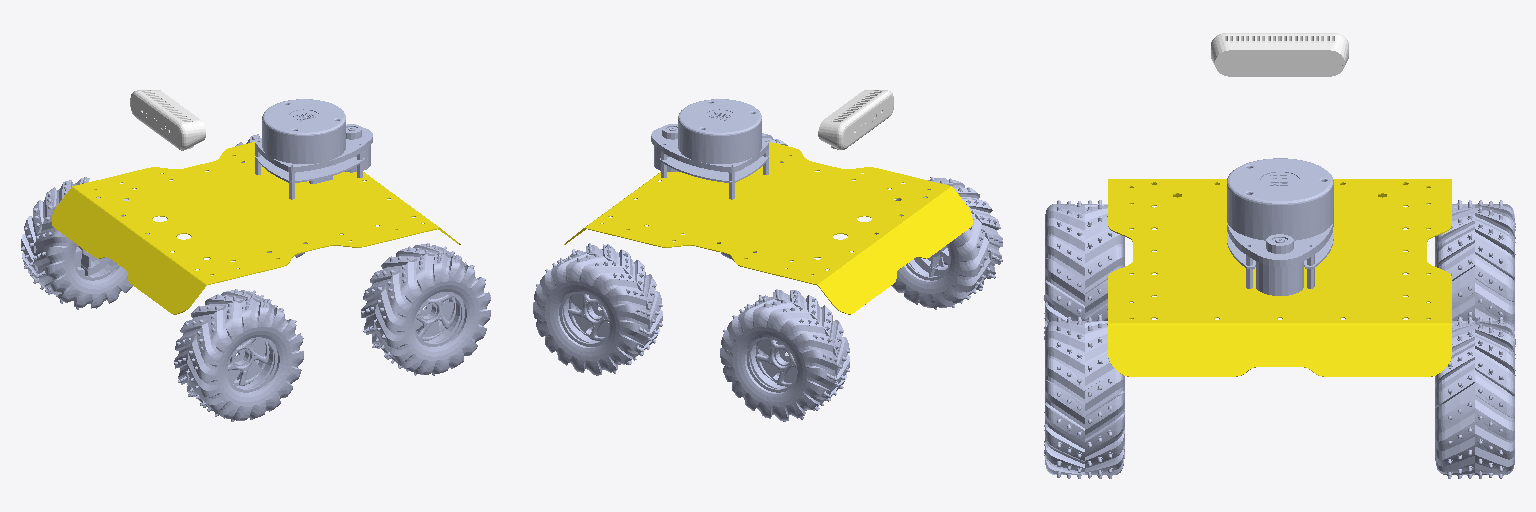
The robot description file, URDF, robot "four_w_amr":
<?xml version="1.0" encoding="utf-8"?>
<!-- This URDF was automatically created by SolidWorks to URDF Exporter! Originally created by [author] ([email redacted]) 
     Commit Version: 1.6.0-1-g15f4949  Build Version: 1.6.7594.29634
     For more information, please see http://wiki.ros.org/sw_urdf_exporter -->
<robot
  name="four_w_amr">
  <link
    name="base_link">
    <inertial>
      <origin
        xyz="-0.0015714 -3.8096E-05 0.0092412"
        rpy="0 0 0" />
      <mass
        value="0.99262" />
      <inertia
        ixx="0.0049043"
        ixy="-7.0089E-07"
        ixz="-1.9202E-06"
        iyy="0.0069472"
        iyz="1.296E-07"
        izz="0.010883" />
    </inertial>
    <visual>
      <origin
        xyz="0 0 0"
        rpy="0 0 0" />
      <geometry>
        <mesh
          filename="package://four_w_amr/meshes/base_link.STL" />
      </geometry>
      <material
        name="">
        <color
          rgba="1 0.94902 0.89804 1" />
      </material>
    </visual>
    <collision>
      <origin
        xyz="0 0 0"
        rpy="0 0 0" />
      <geometry>
        <mesh
          filename="package://four_w_amr/meshes/base_link.STL" />
      </geometry>
    </collision>
  </link>
  <link
    name="front_right_link">
    <inertial>
      <origin
        xyz="7.98479129751617E-06 1.10220750583739E-05 0.00334456132385286"
        rpy="0 0 0" />
      <mass
        value="0.136050477770583" />
      <inertia
        ixx="0.000149637372346913"
        ixy="-1.49723611912467E-08"
        ixz="-8.99691309444113E-10"
        iyy="0.000149629538452258"
        iyz="2.49639173636771E-10"
        izz="0.000237422132450635" />
    </inertial>
    <visual>
      <origin
        xyz="0 0 0"
        rpy="1.57 0 0" />
      <geometry>
        <mesh
          filename="package://four_w_amr/meshes/front_right_link.STL" />
      </geometry>
      <material
        name="">
        <color
          rgba="0.792156862745098 0.819607843137255 0.933333333333333 1" />
      </material>
    </visual>
    <collision>
      <origin
        xyz="0 0 0"
        rpy="1.57 0 0" />
      <geometry>
        <mesh
          filename="package://four_w_amr/meshes/front_right_link.STL" />
      </geometry>
    </collision>
  </link>
  <joint
    name="front_right_joint"
    type="continuous">
    <origin
      xyz="0.09 -0.12514 -0.0092692"
      rpy="0 0 0" />
    <parent
      link="base_link" />
    <child
      link="front_right_link" />
    <axis
      xyz="0 0 1" />
    <limit
      lower="0"
      upper="0"
      effort="0"
      velocity="0" />
  </joint>
  <link
    name="front_left_link">
    <inertial>
      <origin
        xyz="1.1381894112733E-05 7.48568934245096E-06 -0.00334456087259355"
        rpy="0 0 0" />
      <mass
        value="0.13605048957278" />
      <inertia
        ixx="0.000149628181222013"
        ixy="-1.45417054623739E-08"
        ixz="-2.07034268982266E-10"
        iyy="0.000149638739293044"
        iyz="9.04501670155912E-10"
        izz="0.000237422140494481" />
    </inertial>
    <visual>
      <origin
        xyz="0 0 0"
        rpy="1.57 0 0" />
      <geometry>
        <mesh
          filename="package://four_w_amr/meshes/front_left_link.STL" />
      </geometry>
      <material
        name="">
        <color
          rgba="0.792156862745098 0.819607843137255 0.933333333333333 1" />
      </material>
    </visual>
    <collision>
      <origin
        xyz="0 0 0"
        rpy="1.57 0 0" />
      <geometry>
        <mesh
          filename="package://four_w_amr/meshes/front_left_link.STL" />
      </geometry>
    </collision>
  </link>
  <joint
    name="front_left_joint"
    type="continuous">
    <origin
      xyz="0.09 0.12514 -0.0092692"
      rpy="0 0 0" />
    <parent
      link="base_link" />
    <child
      link="front_left_link" />
    <axis
      xyz="0 0 -1" />
    <limit
      lower="0"
      upper="0"
      effort="0"
      velocity="0" />
  </joint>
  <link
    name="back_right_link">
    <inertial>
      <origin
        xyz="2.69262244340096E-06 1.34962546564869E-05 0.00334457304464342"
        rpy="0 0 0" />
      <mass
        value="0.136050439819325" />
      <inertia
        ixx="0.000149647306834592"
        ixy="-6.54136891411713E-09"
        ixz="-8.64044775880118E-10"
        iyy="0.000149619394821641"
        iyz="-1.01021792230475E-10"
        izz="0.000237421935786749" />
    </inertial>
    <visual>
      <origin
        xyz="0 0 0"
        rpy="1.57 0 0" />
      <geometry>
        <mesh
          filename="package://four_w_amr/meshes/back_right_link.STL" />
      </geometry>
      <material
        name="">
        <color
          rgba="0.792156862745098 0.819607843137255 0.933333333333333 1" />
      </material>
    </visual>
    <collision>
      <origin
        xyz="0 0 0"
        rpy="1.57 0 0" />
      <geometry>
        <mesh
          filename="package://four_w_amr/meshes/back_right_link.STL" />
      </geometry>
    </collision>
  </link>
  <joint
    name="back_right_joint"
    type="continuous">
    <origin
      xyz="-0.09 -0.12514 -0.0092692"
      rpy="0 0 0" />
    <parent
      link="base_link" />
    <child
      link="back_right_link" />
    <axis
      xyz="0 0 1" />
    <limit
      lower="0"
      upper="0"
      effort="0"
      velocity="0" />
  </joint>
  <link
    name="back_left_link">
    <inertial>
      <origin
        xyz="1.13824598607648E-05 7.48507145224148E-06 -0.00334455998739608"
        rpy="0 0 0" />
      <mass
        value="0.13605047153913" />
      <inertia
        ixx="0.00014962817203766"
        ixy="-1.45514561403012E-08"
        ixz="-2.02508595545601E-10"
        iyy="0.000149638713799597"
        iyz="9.01595965330663E-10"
        izz="0.000237422109521262" />
    </inertial>
    <visual>
      <origin
        xyz="0 0 0"
        rpy="1.57 0 0" />
      <geometry>
        <mesh
          filename="package://four_w_amr/meshes/back_left_link.STL" />
      </geometry>
      <material
        name="">
        <color
          rgba="0.792156862745098 0.819607843137255 0.933333333333333 1" />
      </material>
    </visual>
    <collision>
      <origin
        xyz="0 0 0"
        rpy="1.57 0 0" />
      <geometry>
        <mesh
          filename="package://four_w_amr/meshes/back_left_link.STL" />
      </geometry>
    </collision>
  </link>
  <joint
    name="back_left_joint"
    type="continuous">
    <origin
      xyz="-0.09 0.12514 -0.0092692"
      rpy="0 0 0" />
    <parent
      link="base_link" />
    <child
      link="back_left_link" />
    <axis
      xyz="0 0 -1" />
    <limit
      lower="0"
      upper="0"
      effort="0"
      velocity="0" />
  </joint>
  <link
    name="top_plate_link">
    <inertial>
      <origin
        xyz="0.000420222783781007 -5.64815892474618E-16 0.051060226584283"
        rpy="0 0 0" />
      <mass
        value="0.0466828966882997" />
      <inertia
        ixx="0.000189247485053159"
        ixy="-1.64633361020445E-19"
        ixz="-5.96136350214113E-08"
        iyy="0.000331558823701719"
        iyz="-7.65829186487116E-20"
        izz="0.000516954502516687" />
    </inertial>
    <visual>
      <origin
        xyz="0 0 0"
        rpy="0 0 0" />
      <geometry>
        <mesh
          filename="package://four_w_amr/meshes/top_plate_link.STL" />
      </geometry>
      <material
        name="">
        <color
          rgba="1 0.937254901960784 0.137254901960784 1" />
      </material>
    </visual>
    <collision>
      <origin
        xyz="0 0 0"
        rpy="0 0 0" />
      <geometry>
        <mesh
          filename="package://four_w_amr/meshes/top_plate_link.STL" />
      </geometry>
    </collision>
  </link>
  <joint
    name="top_plate_joint"
    type="fixed">
    <origin
      xyz="0 0 0"
      rpy="0 0 0" />
    <parent
      link="base_link" />
    <child
      link="top_plate_link" />
    <axis
      xyz="0 0 0" />
  </joint>
  <link
    name="lidar_link">
    <inertial>
      <origin
        xyz="0.0519284763054134 9.19718367893261E-05 0.104952293837966"
        rpy="0 0 0" />
      <mass
        value="1.33010751695787" />
      <inertia
        ixx="0.000613770576870692"
        ixy="-8.01970112250431E-07"
        ixz="-0.000158237807214438"
        iyy="0.000959131136457615"
        iyz="3.09368466835681E-06"
        izz="0.00109694905180103" />
    </inertial>
    <visual>
      <origin
        xyz="0.05 0 -0.1"
        rpy="0 0 3.14" />
      <geometry>
        <mesh
          filename="package://four_w_amr/meshes/lidar_link.STL" />
      </geometry>
      <material
        name="">
        <color
          rgba="0.792156862745098 0.819607843137255 0.933333333333333 1" />
      </material>
    </visual>
    <collision>
      <origin
        xyz="0.05 0 -0.1"
        rpy="0 0 3.14" />
      <geometry>
        <mesh
          filename="package://four_w_amr/meshes/lidar_link.STL" />
      </geometry>
    </collision>
  </link>
  <joint
    name="lidar_joint"
    type="fixed">
    <origin
      xyz="0.055 0 0.1"
      rpy="0 0 0" />
    <parent
      link="base_link" />
    <child
      link="lidar_link" />
    <axis
      xyz="0 0 0" />
  </joint>
  <link
    name="realsense_link">
    <inertial>
      <origin
        xyz="0 0 0"
        rpy="0 0 0" />
      <mass
        value="0" />
      <inertia
        ixx="0"
        ixy="0"
        ixz="0"
        iyy="0"
        iyz="0"
        izz="0" />
    </inertial>
    <visual>
      <origin
        xyz="0 0 0"
        rpy="0 0 0" />
      <geometry>
        <mesh
          filename="package://four_w_amr/meshes/realsense_link.STL" />
      </geometry>
      <material
        name="">
        <color
          rgba="1 1 1 1" />
      </material>
    </visual>
    <collision>
      <origin
        xyz="0 0 0"
        rpy="0 0 0" />
      <geometry>
        <mesh
          filename="package://four_w_amr/meshes/realsense_link.STL" />
      </geometry>
    </collision>
  </link>
  <joint
    name="realsense_joint"
    type="fixed">
    <origin
      xyz="0 0 0"
      rpy="0 0 0" />
    <parent
      link="base_link" />
    <child
      link="realsense_link" />
    <axis
      xyz="0 0 0" />
  </joint>
</robot>

--- What the picture shows (computed from the rendered views, not written in the file) ---
3 views of the same robot in one strip: view 1: azimuth 30°, elevation 25°; view 2: azimuth 150°, elevation 25°; view 3: azimuth 270°, elevation 25° (orthographic).
Model four_w_amr with 8 links and 7 joints (4 continuous, 3 fixed), rooted at base_link, posed every joint at zero.
Links seen in each view (by area): view 1: top_plate_link, back_right_link, front_right_link, lidar_link, back_left_link, realsense_link; view 2: top_plate_link, back_left_link, front_left_link, lidar_link, back_right_link, realsense_link; view 3: top_plate_link, lidar_link, front_left_link, front_right_link, back_right_link, back_left_link, realsense_link.
Boxes of the visible links, bbox=[...] form: top_plate_link: bbox=[52, 142, 460, 314]; back_right_link: bbox=[174, 289, 303, 421]; front_right_link: bbox=[361, 243, 490, 375]; lidar_link: bbox=[255, 99, 372, 199]; back_left_link: bbox=[21, 177, 148, 309]; realsense_link: bbox=[130, 90, 205, 150]; top_plate_link: bbox=[564, 142, 972, 314]; back_left_link: bbox=[720, 289, 849, 421]; front_left_link: bbox=[533, 243, 662, 375]; lidar_link: bbox=[651, 99, 768, 199]; back_right_link: bbox=[875, 177, 1002, 309]; realsense_link: bbox=[818, 90, 893, 149]; top_plate_link: bbox=[1108, 179, 1451, 376]; lidar_link: bbox=[1227, 158, 1333, 295]; front_left_link: bbox=[1435, 317, 1515, 478]; front_right_link: bbox=[1044, 317, 1124, 478]; back_right_link: bbox=[1044, 200, 1124, 339]; back_left_link: bbox=[1435, 200, 1515, 329]; realsense_link: bbox=[1211, 33, 1348, 76].
Size in the robot's own frame: 0.2861 by 0.3075 by 0.2304 metres.
7 mesh visuals loaded from 8 distinct referenced files (7 binary STL); not drawn: 1 (reference not matched to a file when rendering).